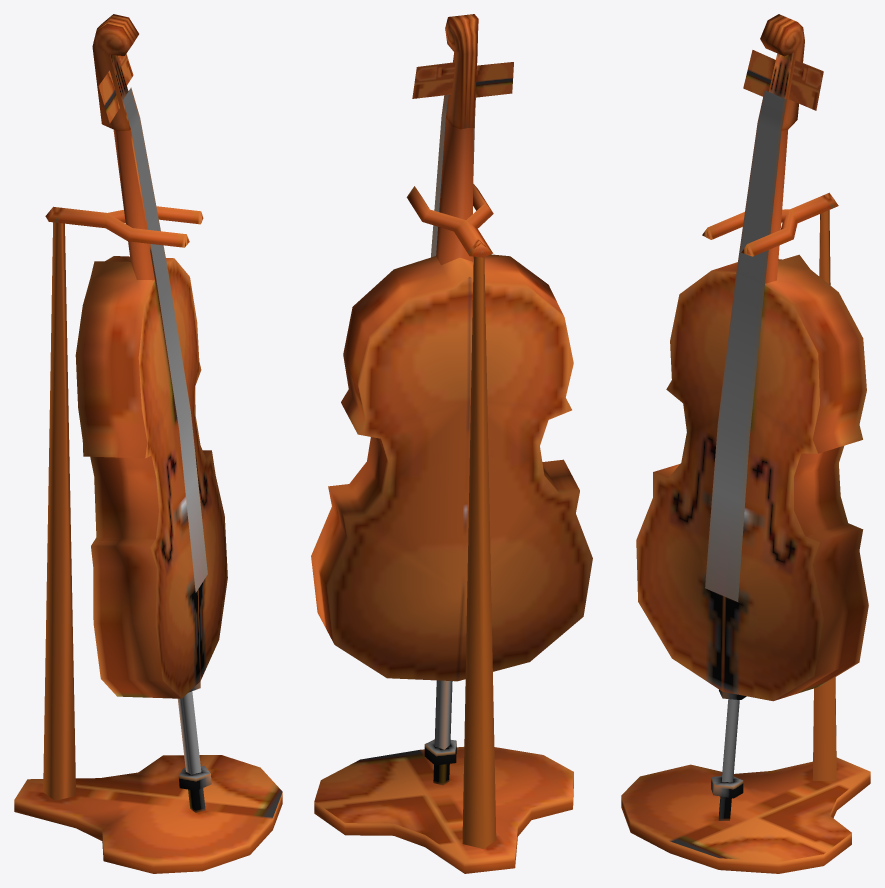
File: int_vio_cello.dae
3 renders of one model, left to right at view 1: azimuth 30°, elevation 25°; view 2: azimuth 150°, elevation 25°; view 3: azimuth 270°, elevation 25°, orthographic. The views are drawn at different scales.
Parts seen in each view (by area): view 1: int_vio_cello; view 2: int_vio_cello; view 3: int_vio_cello.
Boxes of the visible parts, x1,y1,x2,y2 form: int_vio_cello: (14,14,282,873); int_vio_cello: (311,14,592,873); int_vio_cello: (621,14,870,873).
Bounding box in the file's own units: 13.3 × 46.2 × 13.3.
Materials: 2 (2 with a texture image).
